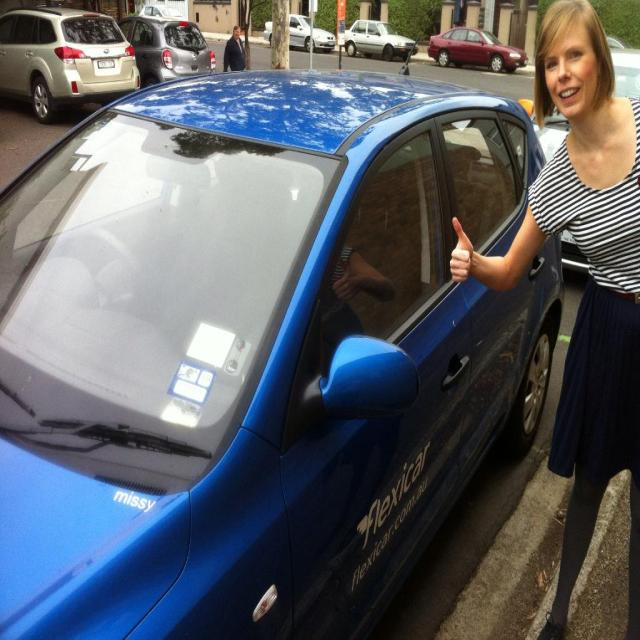car: (426, 25, 526, 72), (340, 17, 417, 60)
